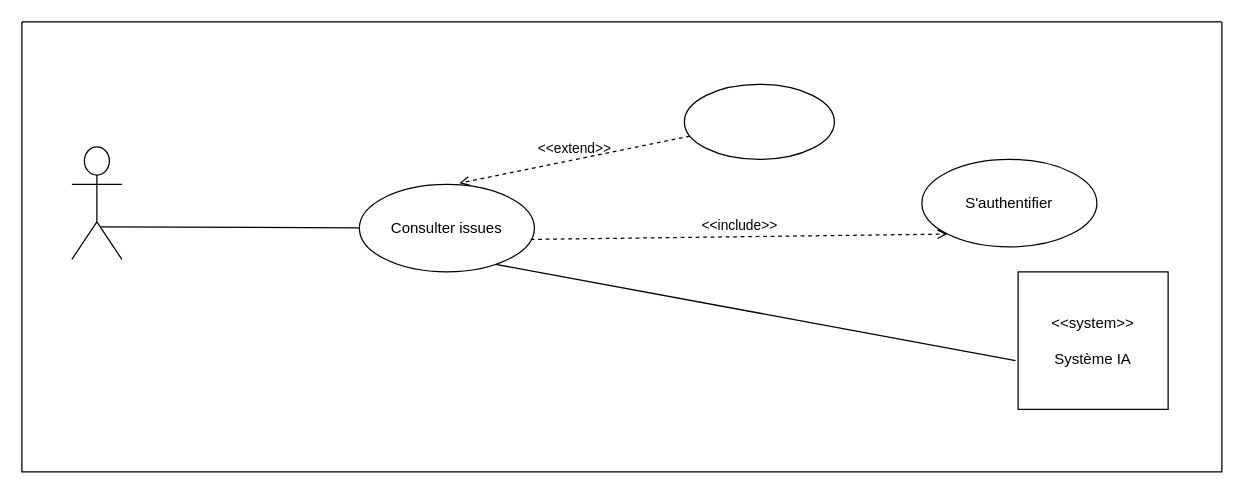
Image size: 1244x494. Some labels were removed from this diagram. The centre of each missing label's shape, as x and y in pixels:
Consulter recommandations IA: the point at 758,121
Utilisateur: the point at 96,202
